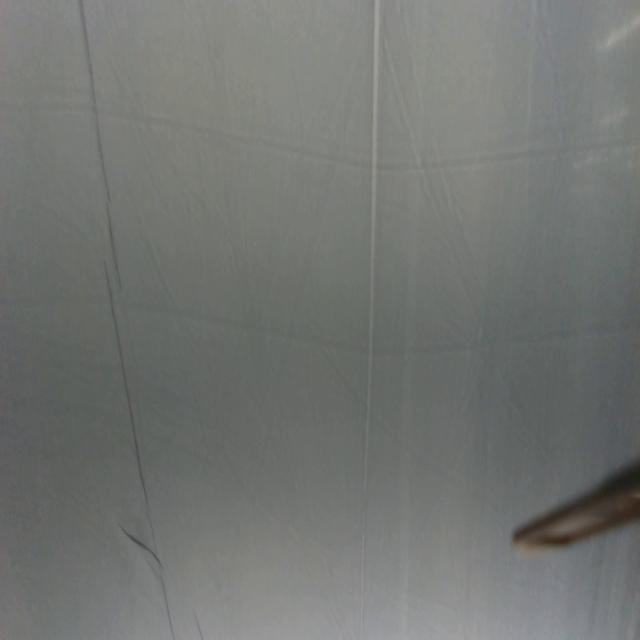crease: (78, 0, 175, 640), (358, 0, 384, 639), (119, 522, 163, 564)
